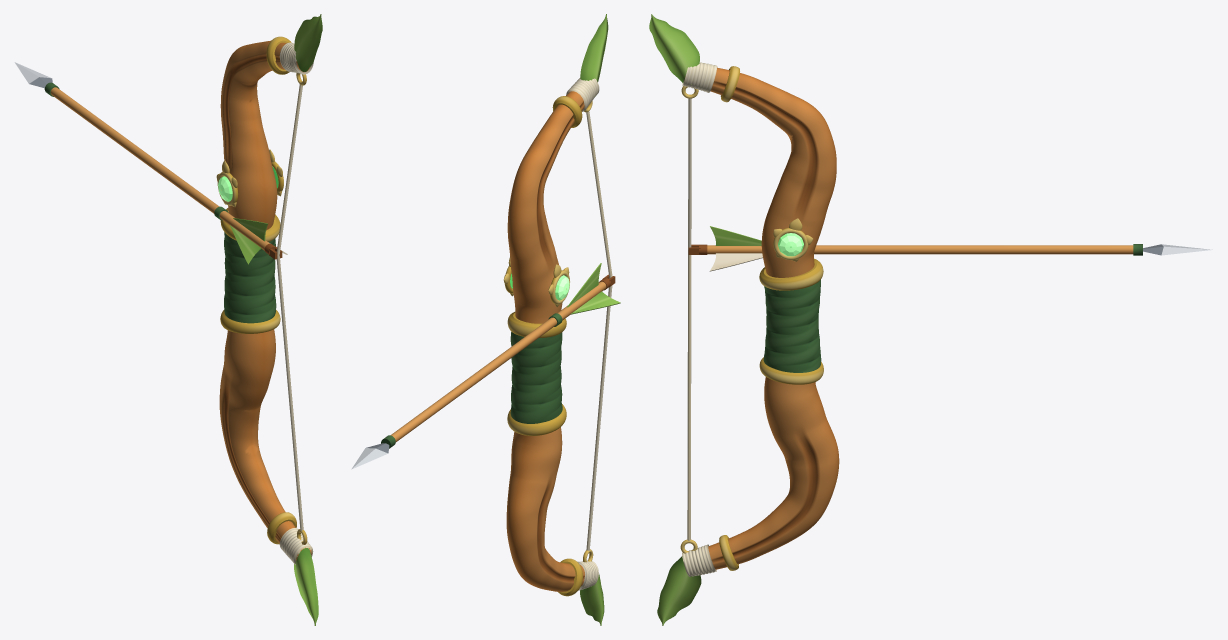
The model's file is leaf_bow.glb.
The picture shows the model from 3 angles, left to right: view 1: azimuth 30°, elevation 25°; view 2: azimuth 150°, elevation 25°; view 3: azimuth 270°, elevation 25°; orthographic projection.
Parts seen in each view (by area): view 1: Riser, Limb_Lower, Limb_Upper, Grip, Shaft, Gold_Trim, Leaf_Lower, Leaf_Upper, String_Lower, Fletching, String_Upper, Leaf_Wrap_Lower (+3 smaller); view 2: Riser, Limb_Upper, Grip, Limb_Lower, Shaft, Gold_Trim, String_Lower, Leaf_Upper, Fletching, Leaf_Lower, String_Upper, Leaf_Wrap_Upper (+4 smaller); view 3: Riser, Limb_Upper, Limb_Lower, Grip, Shaft, Gold_Trim, Leaf_Upper, Leaf_Lower, Fletching, String_Lower, Leaf_Wrap_Lower, Leaf_Wrap_Upper.
Boxes of the visible parts, x1=… form: Riser: x1=220, y1=131, x2=277, y2=410; Limb_Lower: x1=219, y1=389, x2=311, y2=560; Limb_Upper: x1=220, y1=40, x2=310, y2=136; Grip: x1=224, y1=232, x2=276, y2=323; Shaft: x1=50, y1=87, x2=269, y2=250; Gold_Trim: x1=216, y1=149, x2=283, y2=333; Leaf_Lower: x1=294, y1=548, x2=318, y2=625; Leaf_Upper: x1=292, y1=14, x2=322, y2=71; String_Lower: x1=276, y1=255, x2=303, y2=530; Fletching: x1=230, y1=218, x2=287, y2=264; String_Upper: x1=276, y1=84, x2=302, y2=255; Leaf_Wrap_Lower: x1=279, y1=528, x2=313, y2=564; Riser: x1=507, y1=234, x2=562, y2=509; Limb_Upper: x1=507, y1=91, x2=584, y2=260; Grip: x1=510, y1=332, x2=562, y2=423; Limb_Lower: x1=506, y1=505, x2=584, y2=591; Shaft: x1=391, y1=281, x2=606, y2=442; Gold_Trim: x1=503, y1=257, x2=569, y2=435; String_Lower: x1=586, y1=285, x2=612, y2=550; Leaf_Upper: x1=580, y1=14, x2=608, y2=96; Fletching: x1=567, y1=263, x2=620, y2=314; Leaf_Lower: x1=580, y1=574, x2=604, y2=625; String_Upper: x1=586, y1=111, x2=612, y2=278; Leaf_Wrap_Upper: x1=566, y1=78, x2=599, y2=111; Riser: x1=761, y1=180, x2=836, y2=459; Limb_Upper: x1=684, y1=67, x2=836, y2=198; Limb_Lower: x1=708, y1=444, x2=839, y2=569; Grip: x1=763, y1=280, x2=821, y2=372; Shaft: x1=707, y1=245, x2=1133, y2=254; Gold_Trim: x1=759, y1=218, x2=823, y2=384; Leaf_Upper: x1=649, y1=14, x2=699, y2=84; Leaf_Lower: x1=657, y1=556, x2=701, y2=625; Fletching: x1=709, y1=226, x2=762, y2=271; String_Lower: x1=687, y1=250, x2=691, y2=540; Leaf_Wrap_Lower: x1=682, y1=544, x2=716, y2=576; Leaf_Wrap_Upper: x1=682, y1=62, x2=717, y2=92.
Size of the model in its own units: 0.1382 by 1.11 by 0.9285.
